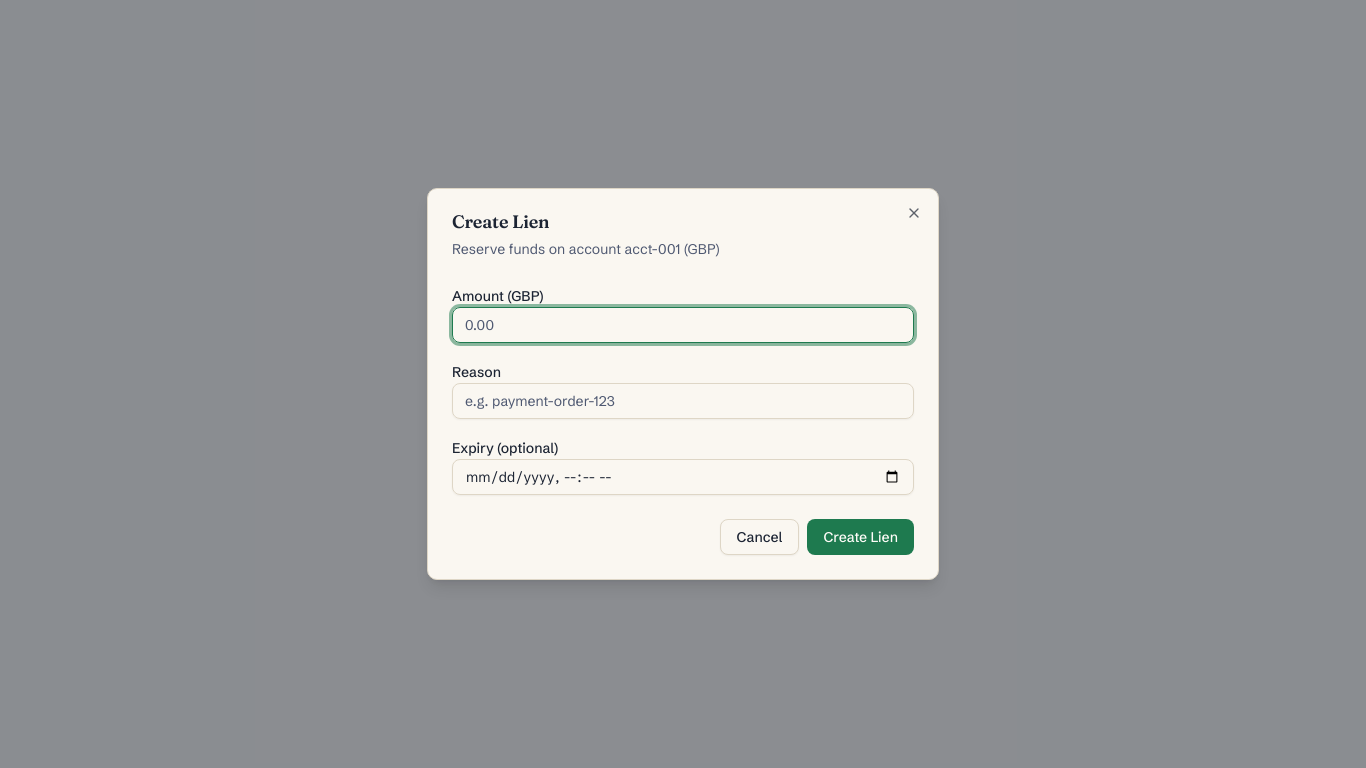
Scenario: CreateLienDialog - validation › shows error when amount is empty on submit
Type "pay-ref-001" into the field labelled "Reason".
click(683, 401); type("pay-ref-001")  # box x1=452 y1=383 x2=914 y2=419
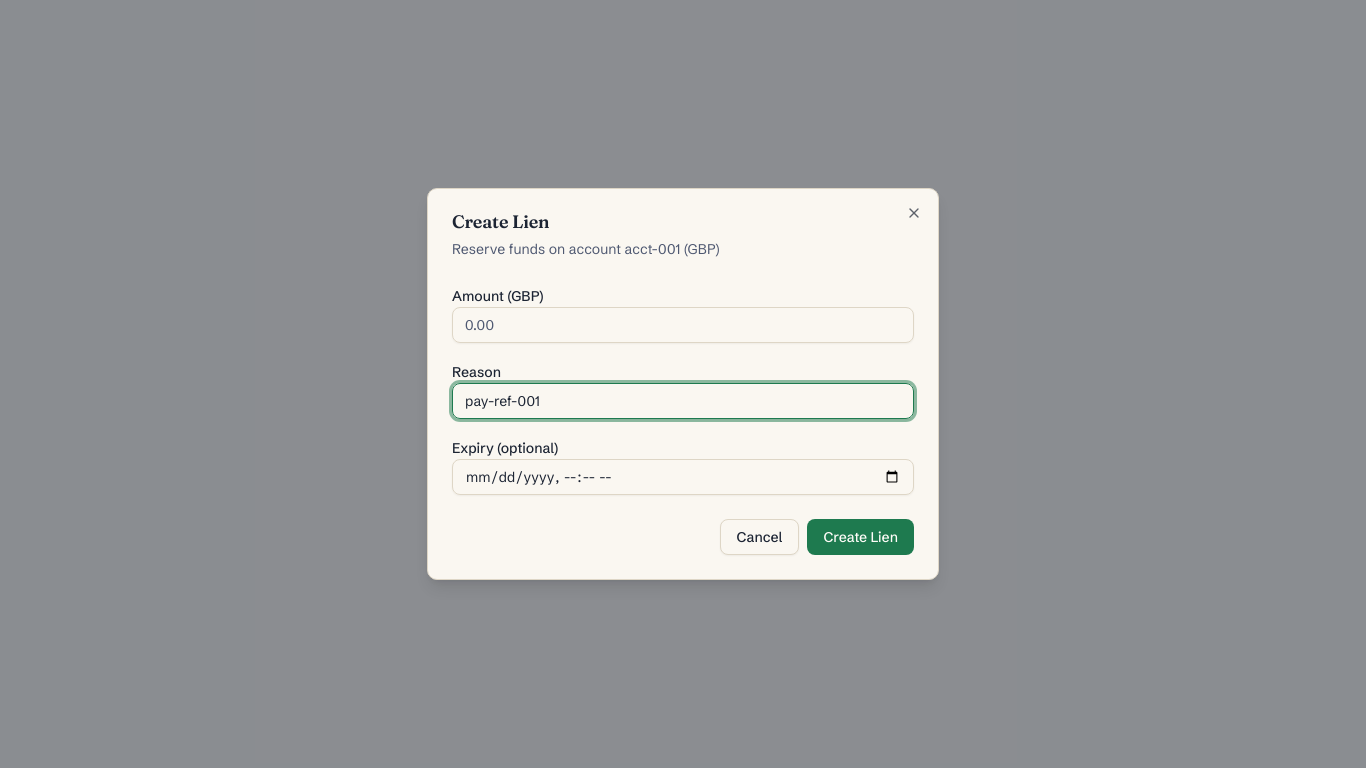
Click the button "Create Lien".
click(861, 537)  # box x1=807 y1=519 x2=914 y2=555
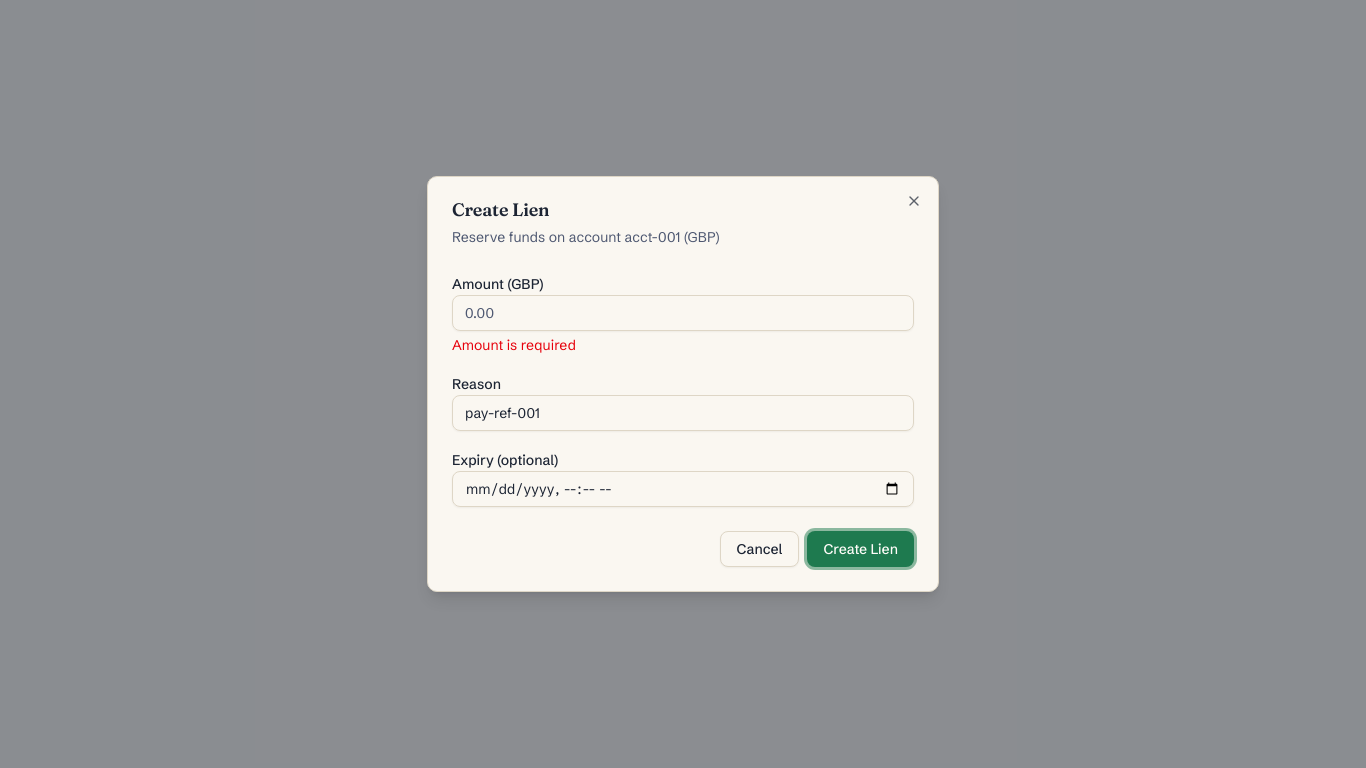
Result: the text "Amount is required" is shown at x1=452 y1=336 x2=576 y2=354
